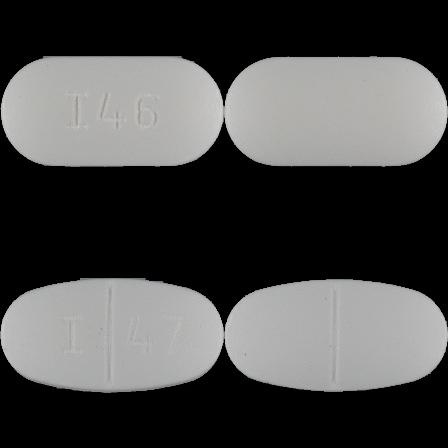0615-7627: (0, 0, 224, 224)
